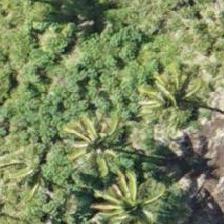coconut_tree: (128, 54, 218, 144), (44, 101, 134, 191), (71, 157, 161, 223)
